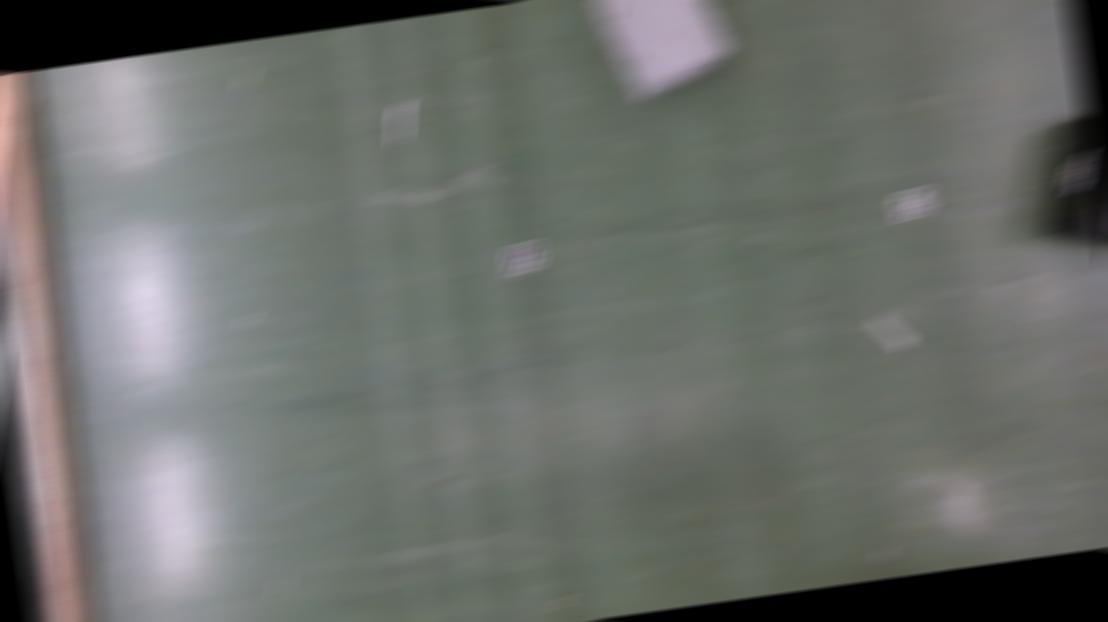probes: (869, 311, 912, 354), (386, 104, 414, 146)
rako: (588, 1, 738, 110), (1026, 117, 1108, 250)
